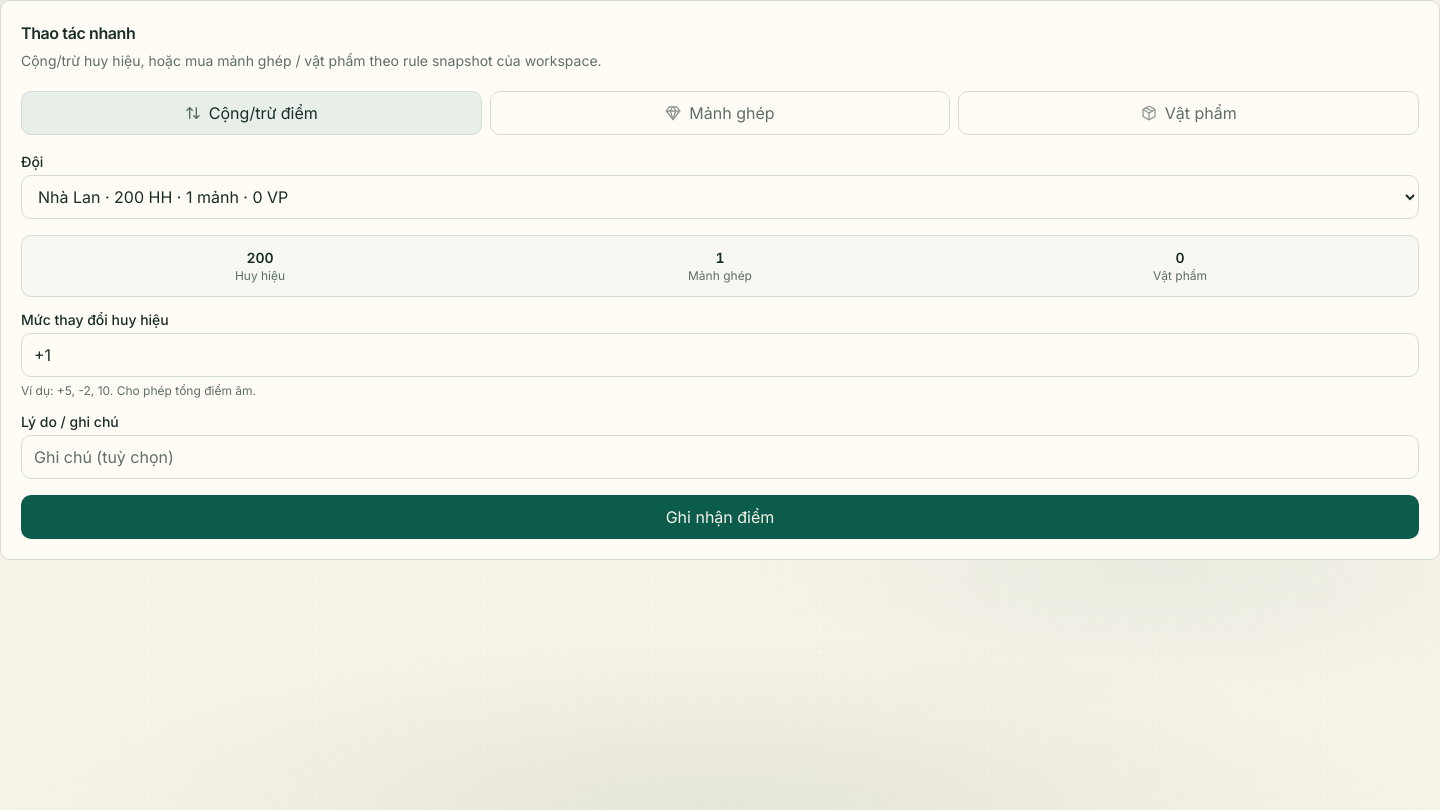
Test: QuickActions shop UX › blocks invalid medal input
Replace the text in the field labelled "Mức thay đổi huy hiệu" with "0". click: (720, 355)
box: [21,333,1419,377]
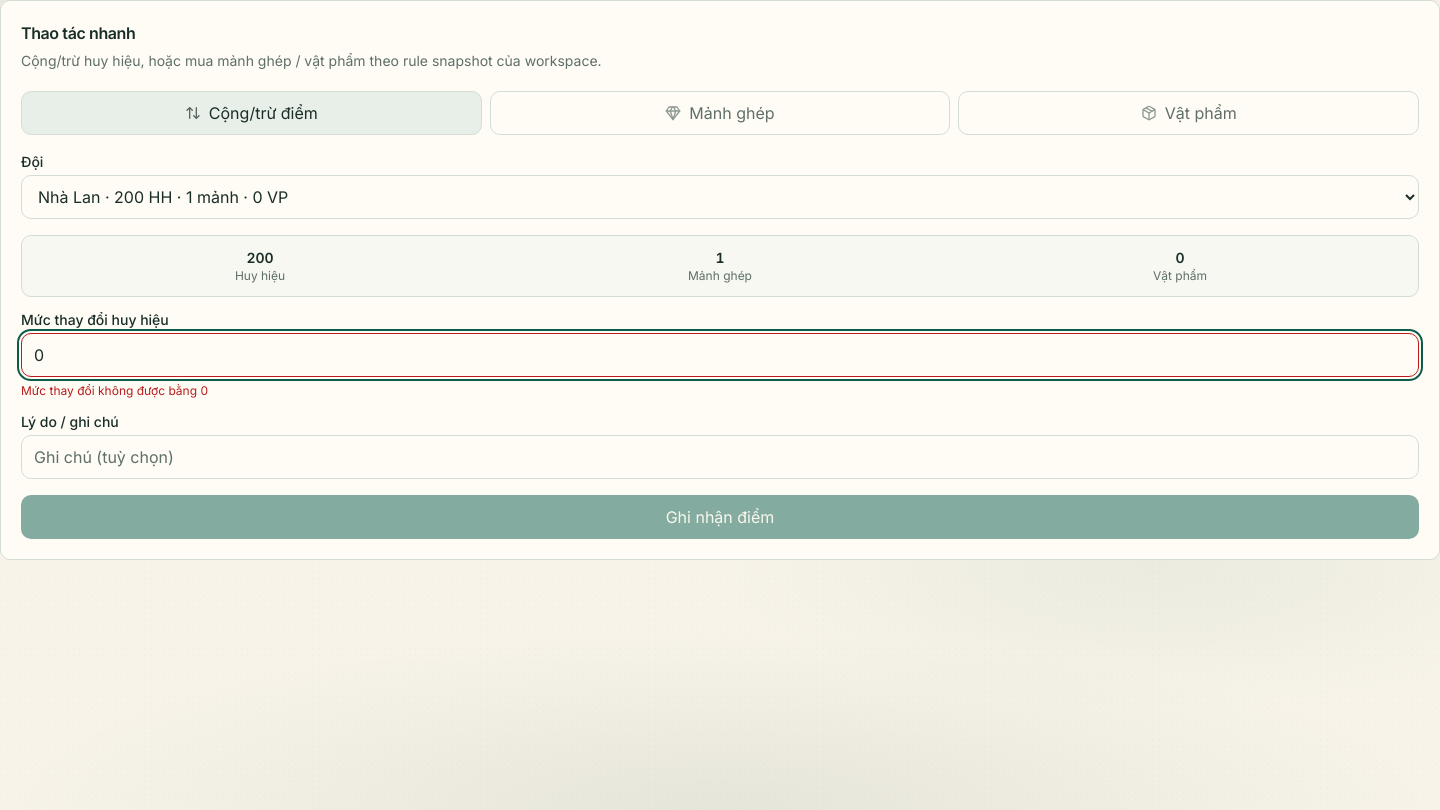
Check: the button with test id "quick-submit" is disabled, box [21,495,1419,539]
Check: the text "Mức thay đổi không được bằng 0" is shown, box [21,383,208,398]
